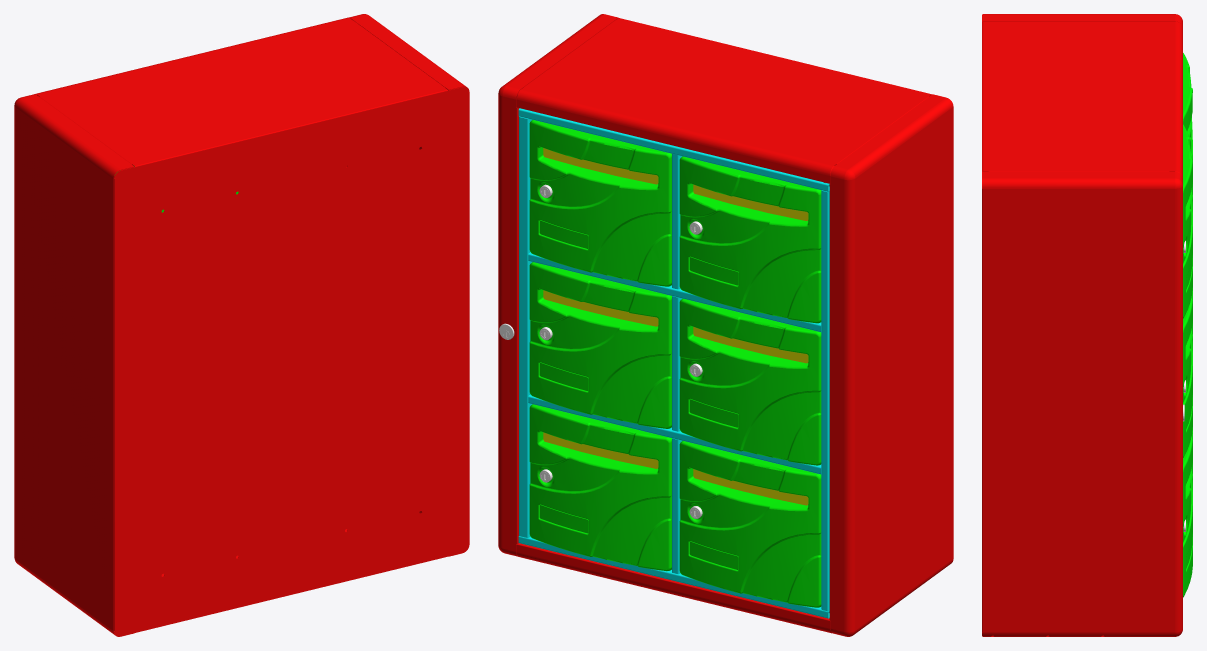
Rendered from elite_B6.glb.
3 renders of one model, left to right at view 1: azimuth 30°, elevation 25°; view 2: azimuth 150°, elevation 25°; view 3: azimuth 270°, elevation 25°, orthographic.
Visible parts, largest first — view 1: TOLE FOND coffre arrondie B6, TOLE DROITE coffre arrondie 3, TOLE DESSUS coffre arrondie B, TOLE GAUCHE coffre arrondie 3_Défaut<Brut d''usinage>; view 2: TOLE DROITE coffre arrondie 3, TOLE DESSUS coffre arrondie B, facade portillon élite, facade portillon élite_node_2, facade portillon élite_node_0, facade portillon élite_node, facade portillon élite_node_3, facade portillon élite_node_1, TOLE GAUCHE coffre arrondie 3_Défaut<Brut d''usinage>, TOLE PLIEE CROCHET CADRE 3, TOLE DESSUS coffre arrondie B_node, TUBE COTEE CADRE 3_node (+17 smaller); view 3: TOLE GAUCHE coffre arrondie 3_Défaut<Brut d''usinage>, TOLE DESSUS coffre arrondie B, facade portillon élite_node_1, TOLE DROITE coffre arrondie 3, facade portillon élite_node_3, facade portillon élite_node_2, facade portillon élite, TOLE FOND coffre arrondie B6.
Part boxes in pixels (<box>): TOLE FOND coffre arrondie B6: <box>114,87,469,636</box>; TOLE DROITE coffre arrondie 3: <box>14,94,134,636</box>; TOLE DESSUS coffre arrondie B: <box>34,17,447,166</box>; TOLE GAUCHE coffre arrondie 3_Défaut<Brut d''usinage>: <box>345,14,469,556</box>; TOLE DROITE coffre arrondie 3: <box>829,94,953,636</box>; TOLE DESSUS coffre arrondie B: <box>516,18,931,183</box>; facade portillon élite: <box>679,156,821,323</box>; facade portillon élite_node_2: <box>529,262,671,428</box>; facade portillon élite_node_0: <box>679,441,821,607</box>; facade portillon élite_node: <box>679,298,821,465</box>; facade portillon élite_node_3: <box>529,404,671,571</box>; facade portillon élite_node_1: <box>529,120,671,286</box>; TOLE GAUCHE coffre arrondie 3_Défaut<Brut d''usinage>: <box>498,14,618,556</box>; TOLE PLIEE CROCHET CADRE 3: <box>518,108,532,542</box>; TOLE DESSUS coffre arrondie B_node: <box>516,543,831,633</box>; TUBE COTEE CADRE 3_node: <box>821,190,829,611</box>; TOLE GAUCHE coffre arrondie 3_Défaut<Brut d''usinage>: <box>982,171,1182,636</box>; TOLE DESSUS coffre arrondie B: <box>982,21,1182,176</box>; facade portillon élite_node_1: <box>1183,124,1192,318</box>; TOLE DROITE coffre arrondie 3: <box>982,14,1182,26</box>; facade portillon élite_node_3: <box>1183,438,1192,597</box>; facade portillon élite_node_2: <box>1183,299,1192,457</box>; facade portillon élite: <box>1183,53,1192,210</box>; TOLE FOND coffre arrondie B6: <box>982,14,982,636</box>.
Bounding box in the file's own units: 732 × 918 × 383.
